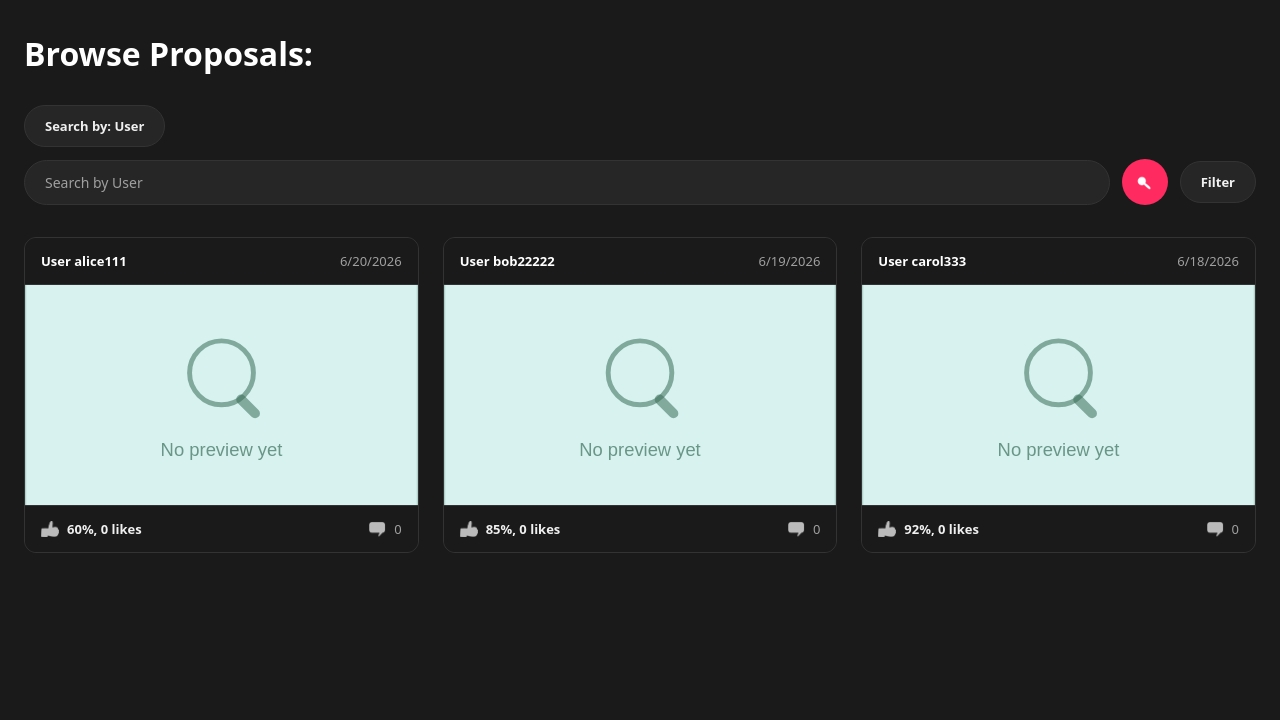
Test case: filters proposals by user search text
The image size is (1280, 720).
Expected: the text "User alice111" is shown, [41,252,127,270]
In the search field: (567, 182) [24,160,1110,204], type "alice111"
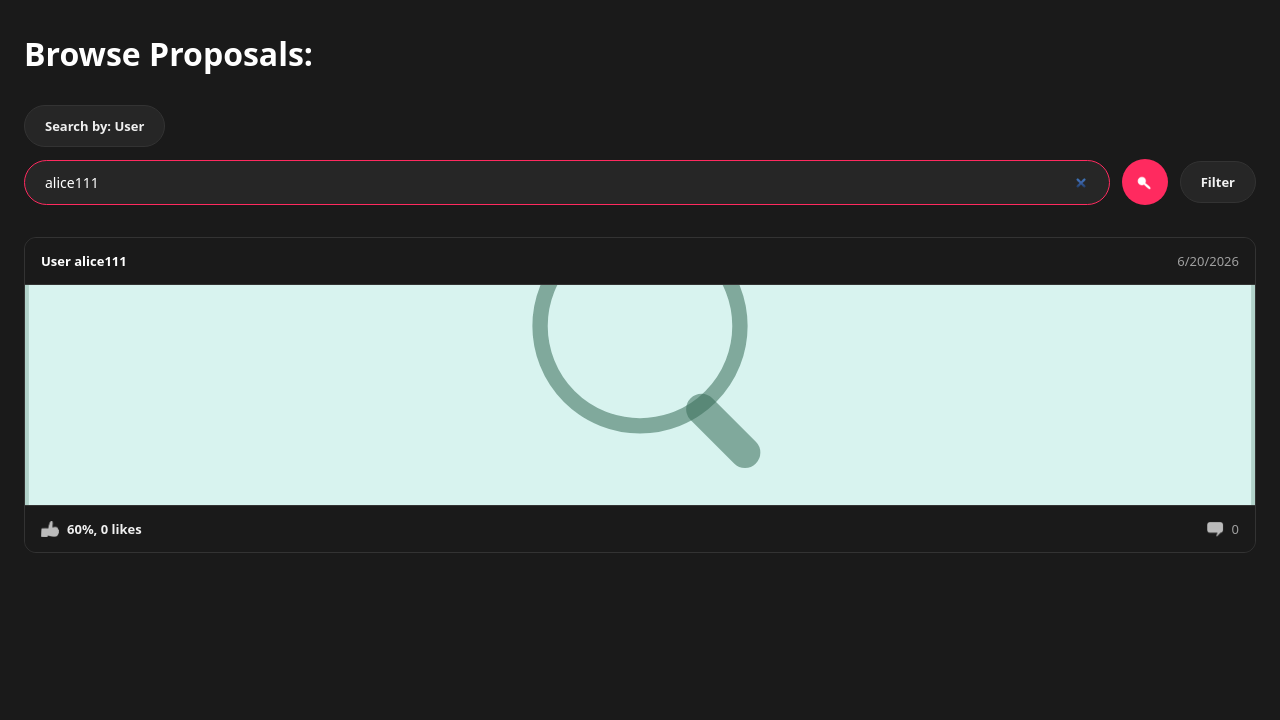
Expected: the text "User alice111" is shown, [41,252,127,270]
Now the number of pictures with alt text "Preview thumbnail of the proposal" is 1, box [25,285,1255,505]
Now the text "User bob22222" is gone
